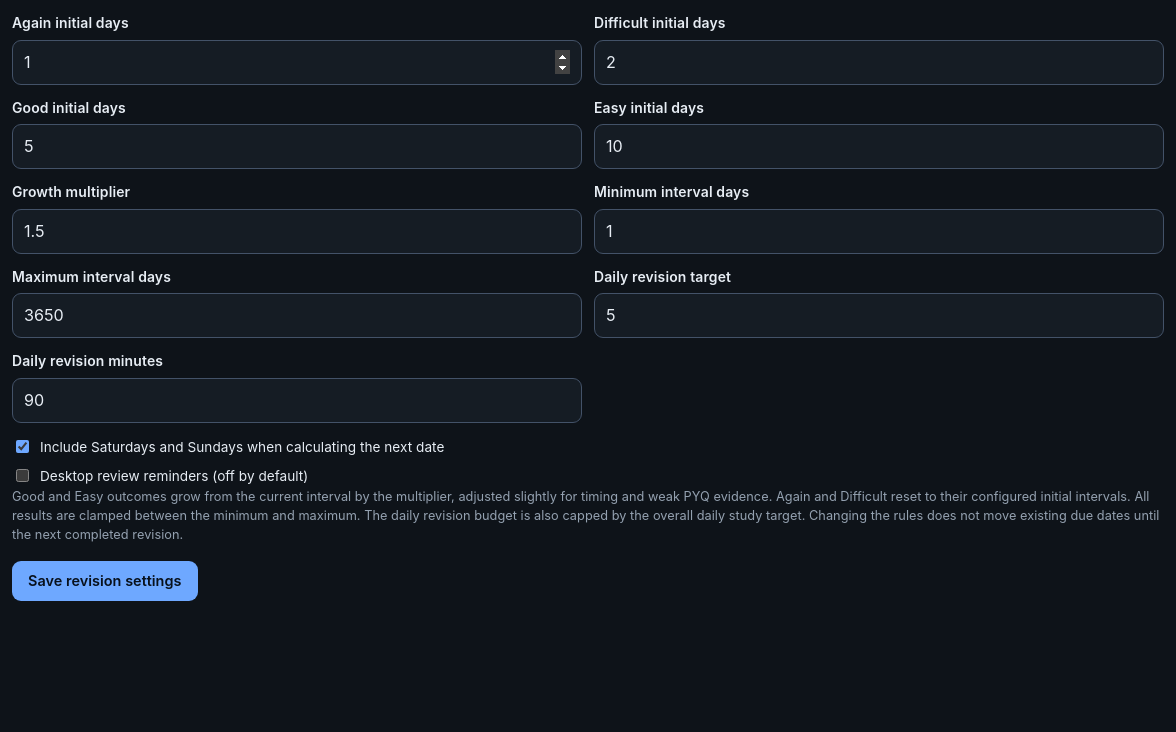
Scenario: revision settings panel › maps backend interval errors to the responsible field
The width and height of the screenshot is (1176, 732).
Click the button "Save revision settings". click: point(105, 581)
box: [12,560,198,601]
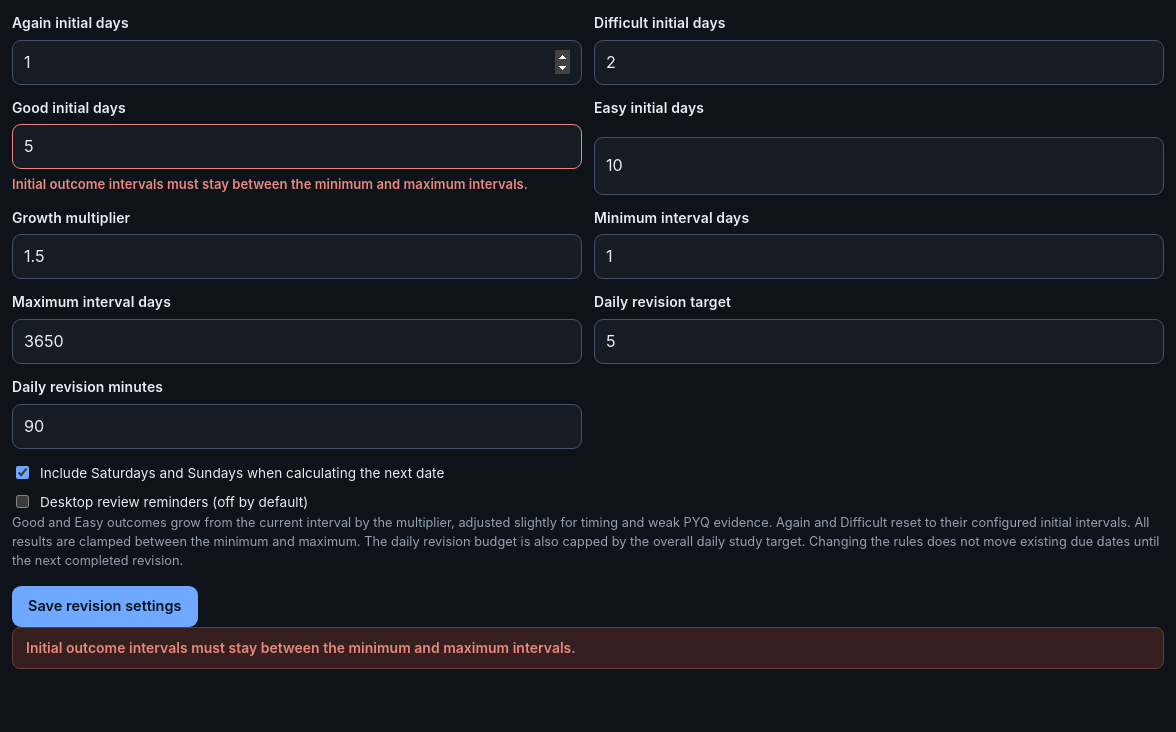
Result: the text "Initial outcome intervals must stay between the minimum and maximum intervals." below "Good initial days" is shown at [12,176,528,192]
